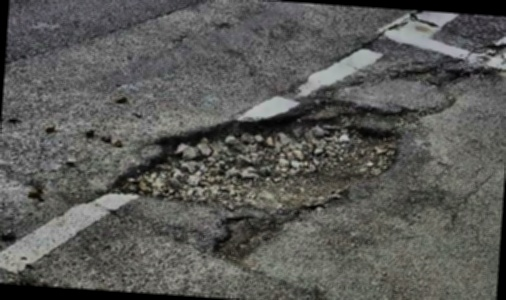pothole: (106, 89, 404, 223), (209, 211, 275, 266), (395, 56, 494, 91)
